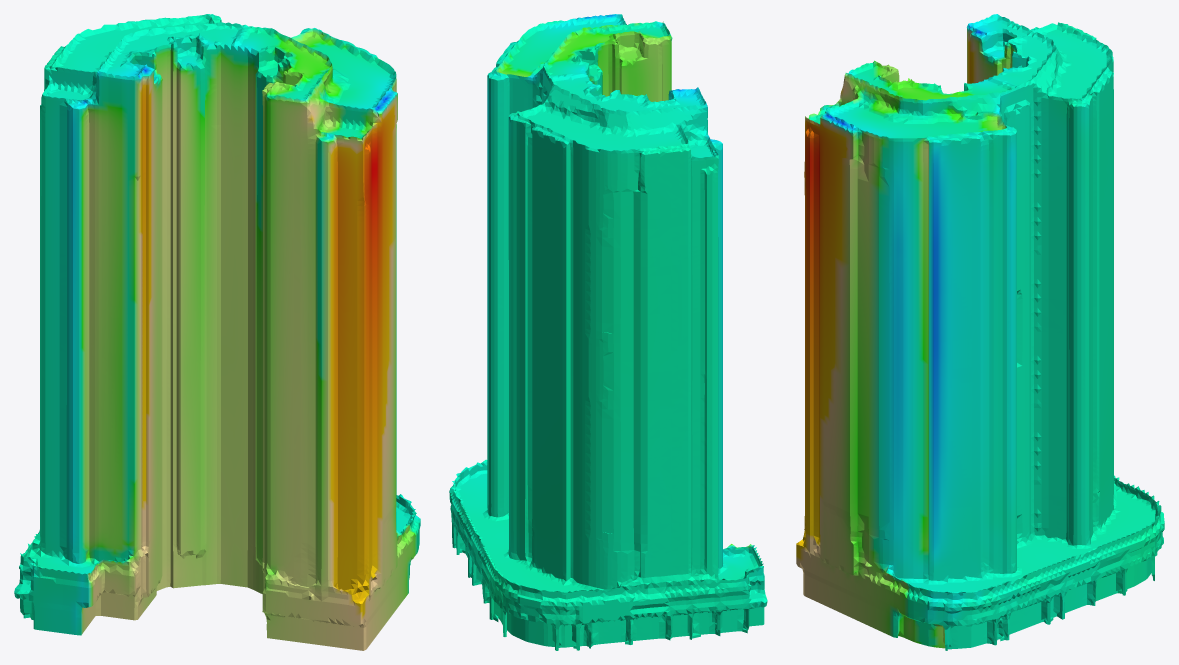
The model's file is windpressure_building_11.gltf.
3 renders of one model, left to right at view 1: azimuth 30°, elevation 25°; view 2: azimuth 150°, elevation 25°; view 3: azimuth 270°, elevation 25°, orthographic. The views are drawn at different scales.
Visible parts, largest first — view 1: 0; view 2: 0; view 3: 0.
Boxes of the visible parts, x1,y1,x2,y2 form: 0: (14,14,420,650); 0: (449,14,767,650); 0: (796,14,1164,650).
Size of the model in its own units: 72.21 by 103 by 67.66.
1 material, 1 textured.
